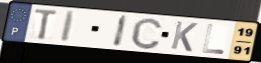C: (129, 17, 164, 51)
I: (111, 14, 129, 49), (59, 10, 78, 43)
K: (169, 19, 200, 53)
L: (201, 23, 226, 56)
T: (33, 7, 60, 41)
